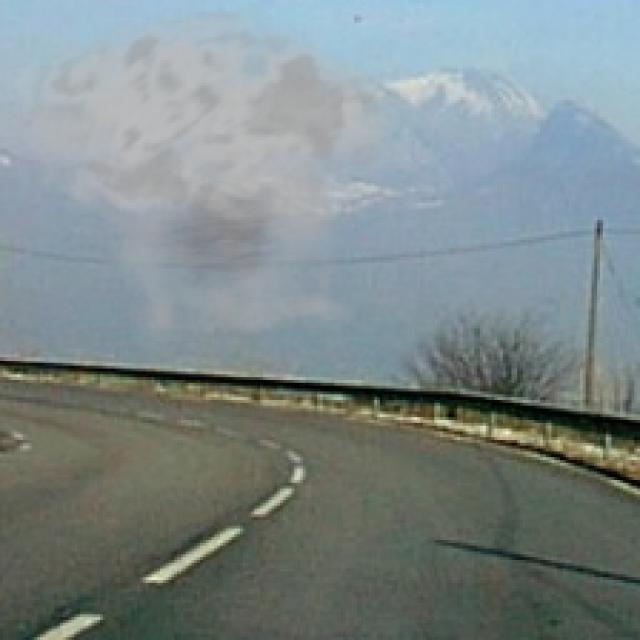Smoke: (8, 9, 434, 368)
